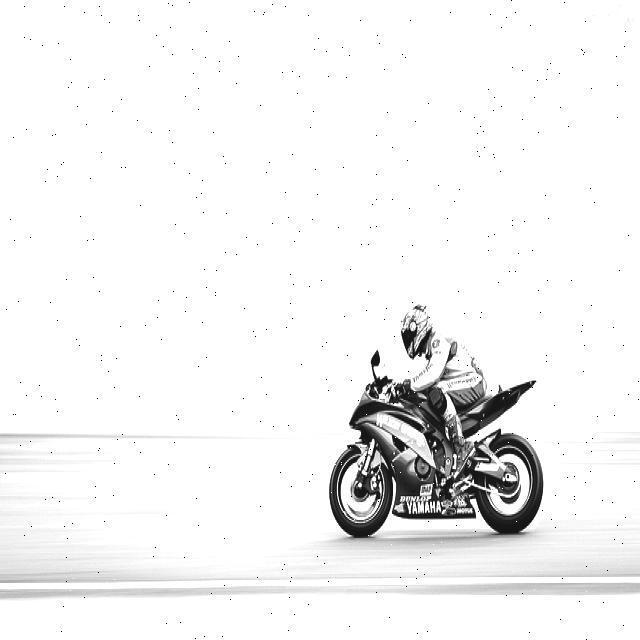motorcycle: (329, 350, 547, 536)
